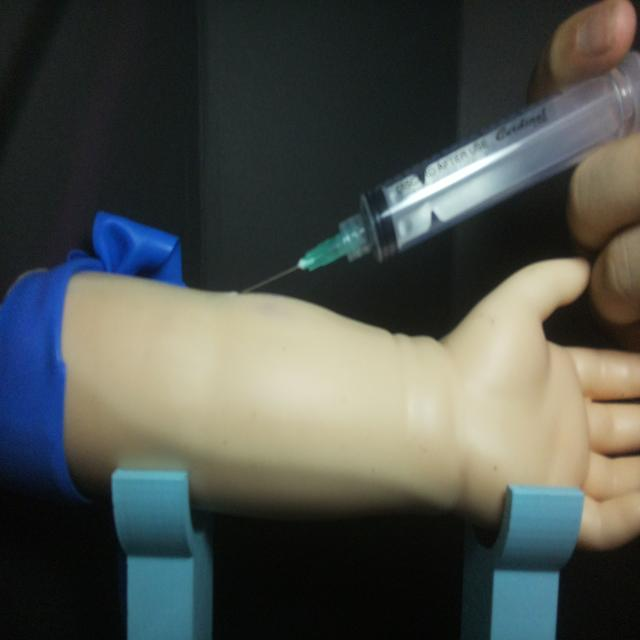18deg: (233, 48, 638, 298)
